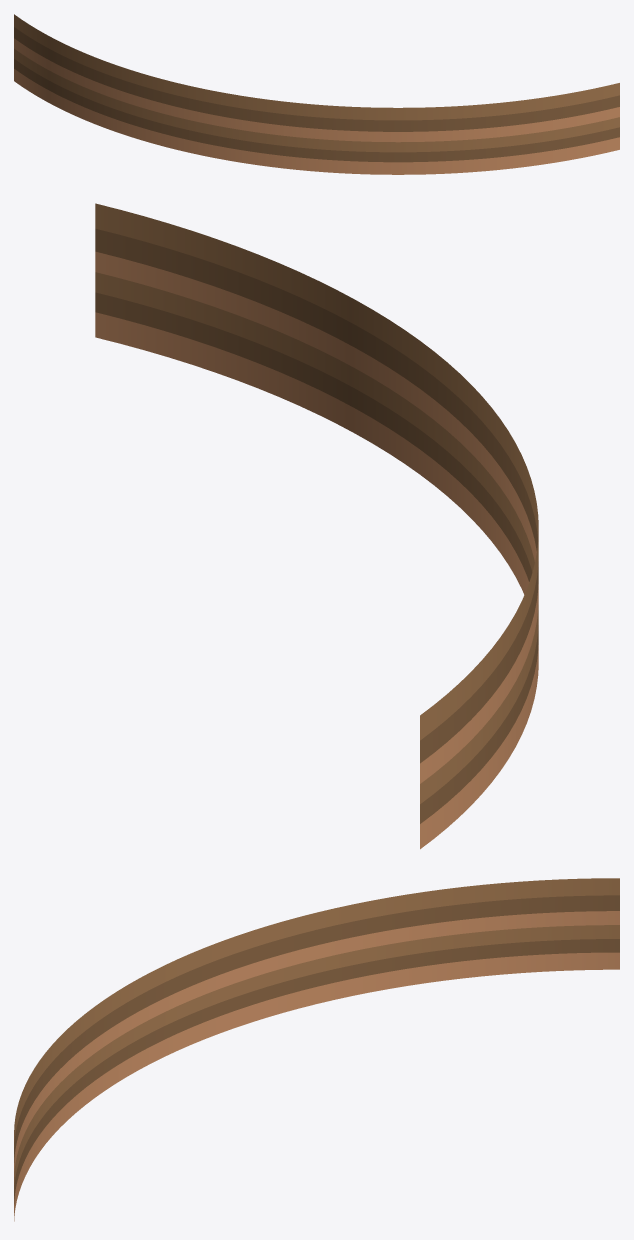
Rendered from platform_grass_corner_round6_center_tall.gltf.
3 renders of one model, top to bottom at view 1: azimuth 30°, elevation 25°; view 2: azimuth 150°, elevation 25°; view 3: azimuth 270°, elevation 25°, orthographic. The views are drawn at different scales.
Parts seen in each view (by area): view 1: Cube_Grass_Corner_Round6Center_Tall; view 2: Cube_Grass_Corner_Round6Center_Tall; view 3: Cube_Grass_Corner_Round6Center_Tall.
Boxes of the visible parts, <box> form: Cube_Grass_Corner_Round6Center_Tall: <box>14,14,619,174</box>; Cube_Grass_Corner_Round6Center_Tall: <box>95,203,538,849</box>; Cube_Grass_Corner_Round6Center_Tall: <box>14,878,619,1221</box>.
Bounding box in the file's own units: 12 × 2 × 12.
